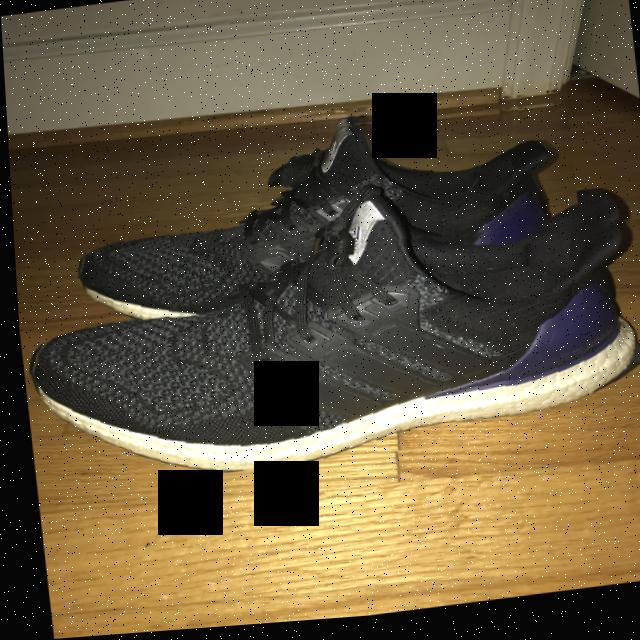shoe: (11, 203, 640, 497), (6, 97, 582, 334)
